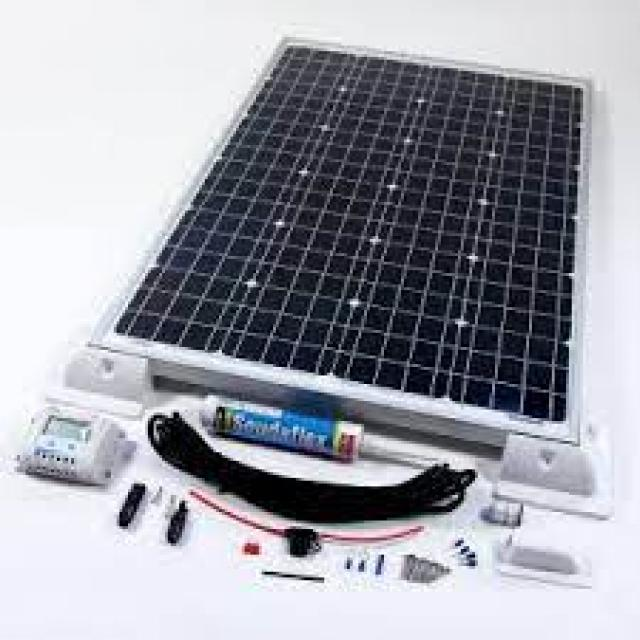no faulty: (112, 44, 596, 419)
